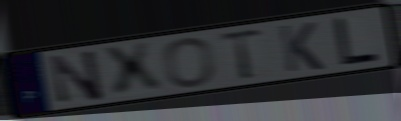K: (276, 20, 327, 74)
L: (332, 15, 382, 68)
N: (47, 47, 106, 105)
O: (162, 36, 217, 89)
T: (218, 26, 265, 82)
X: (99, 40, 167, 101)
